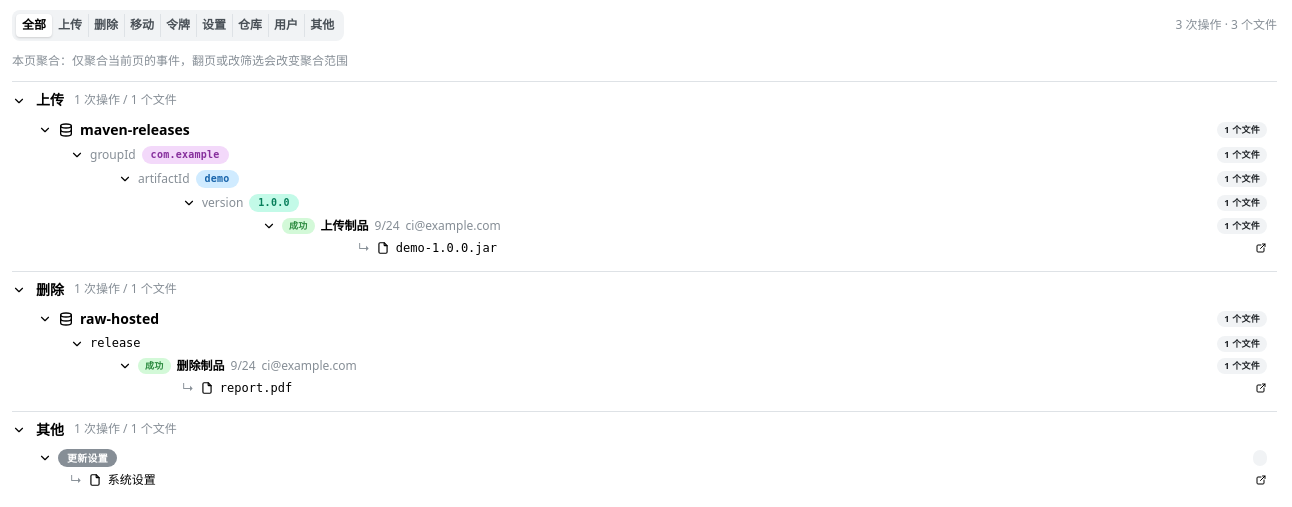
Test: OperationAggregation › 类型筛选只保留对应类型的分区，并同步汇总
Step 1. Click the radio button labelled "删除" → coordinates (106, 24), box [94, 16, 118, 33]
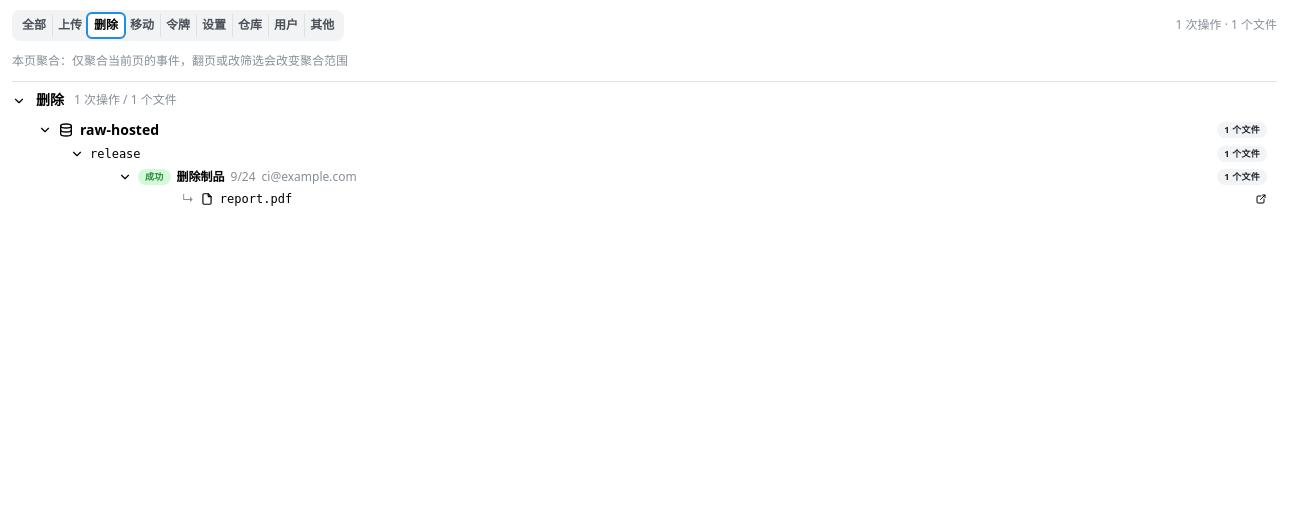
expect the element with test id "audit-op-section-upload" is gone: met
expect the element with test id "audit-op-section-other" is gone: met
expect the text with test id "audit-op-summary" reads "1 次操作 · 1 个文件": met, box [1176, 16, 1277, 33]
// 切回「全部」后所有分区恢复。
Step 2. Click the radio button labelled "全部" → coordinates (34, 24), box [22, 16, 46, 33]
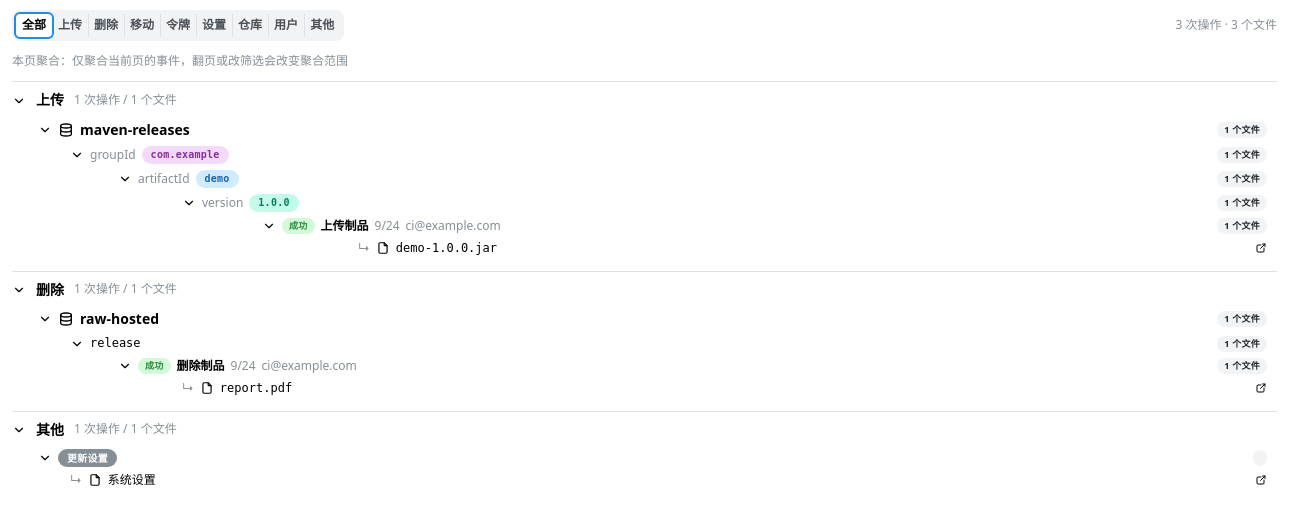
expect the element with test id "audit-op-section-delete" is shown: met, box [12, 271, 1277, 399]
expect the element with test id "audit-op-section-upload" is shown: met, box [12, 81, 1277, 259]
expect the element with test id "audit-op-section-other" is shown: met, box [12, 411, 1277, 491]
